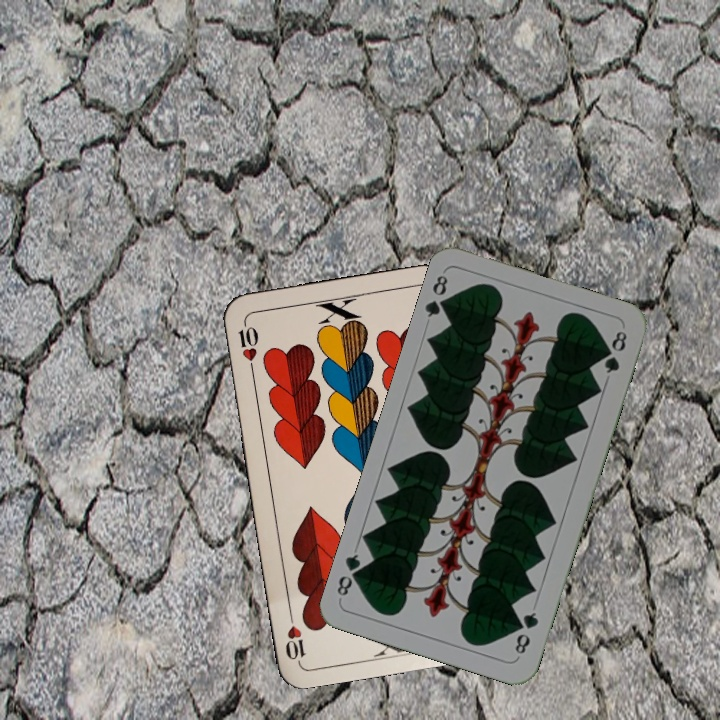G8: (421, 271, 454, 320), (511, 608, 541, 657)
H10: (233, 318, 261, 377)
